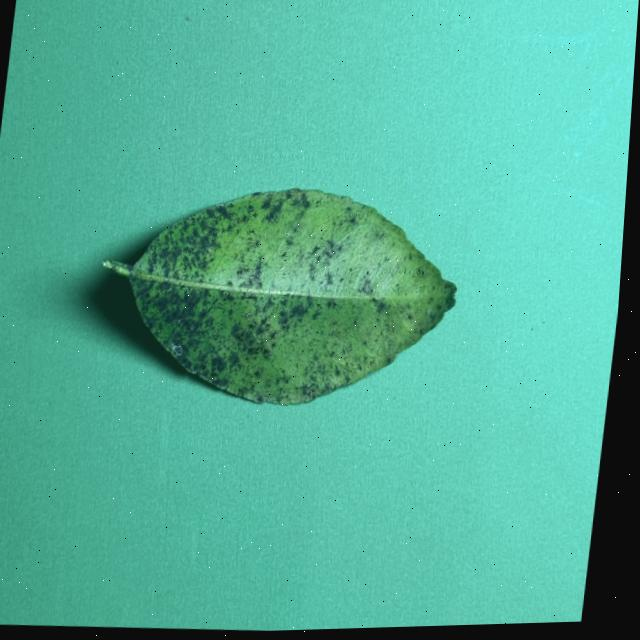sooty_mold: (103, 189, 456, 403)
